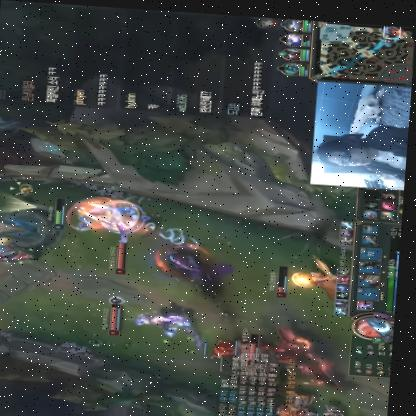streamer: (317, 114, 410, 184)
